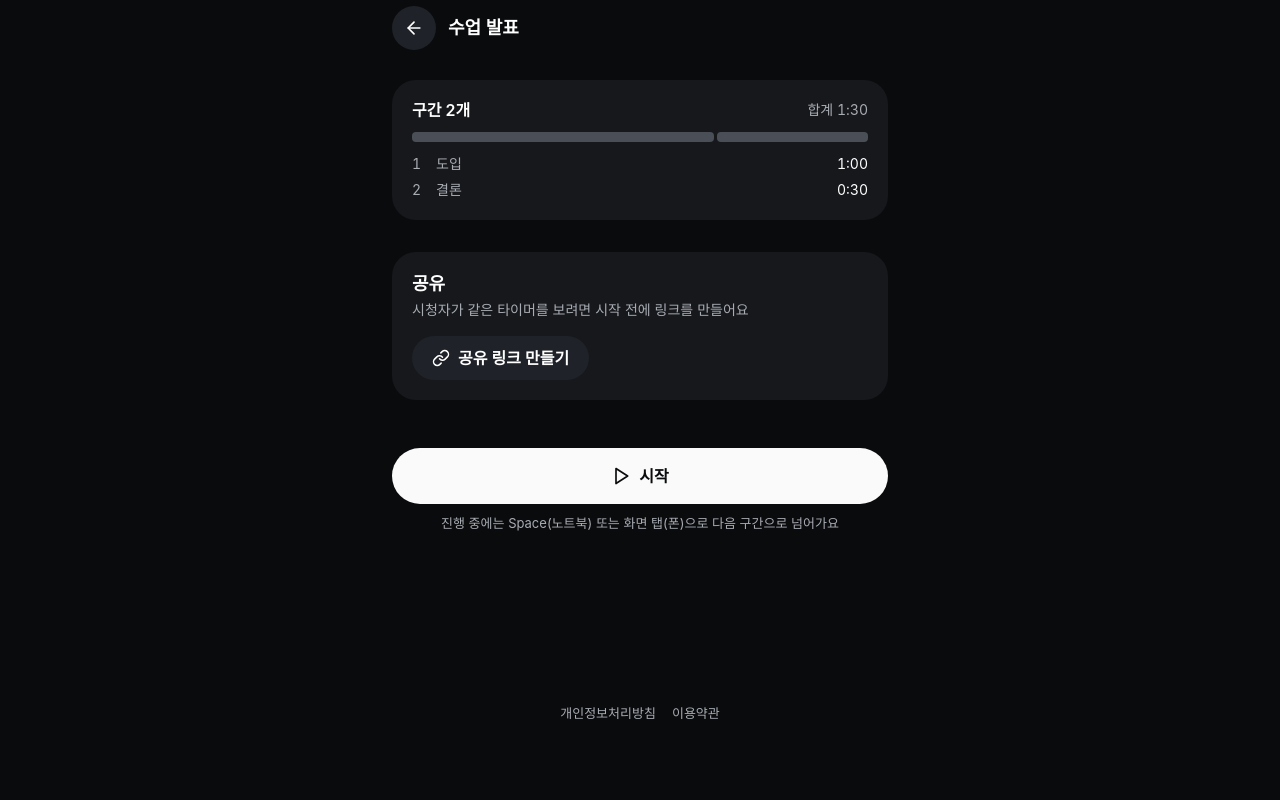
it: RunScreen › expires the finish hint after 3 seconds without ending and starts a fresh confirmation
Click the button "시작" at (640,476), box x1=392 y1=448 x2=888 y2=504
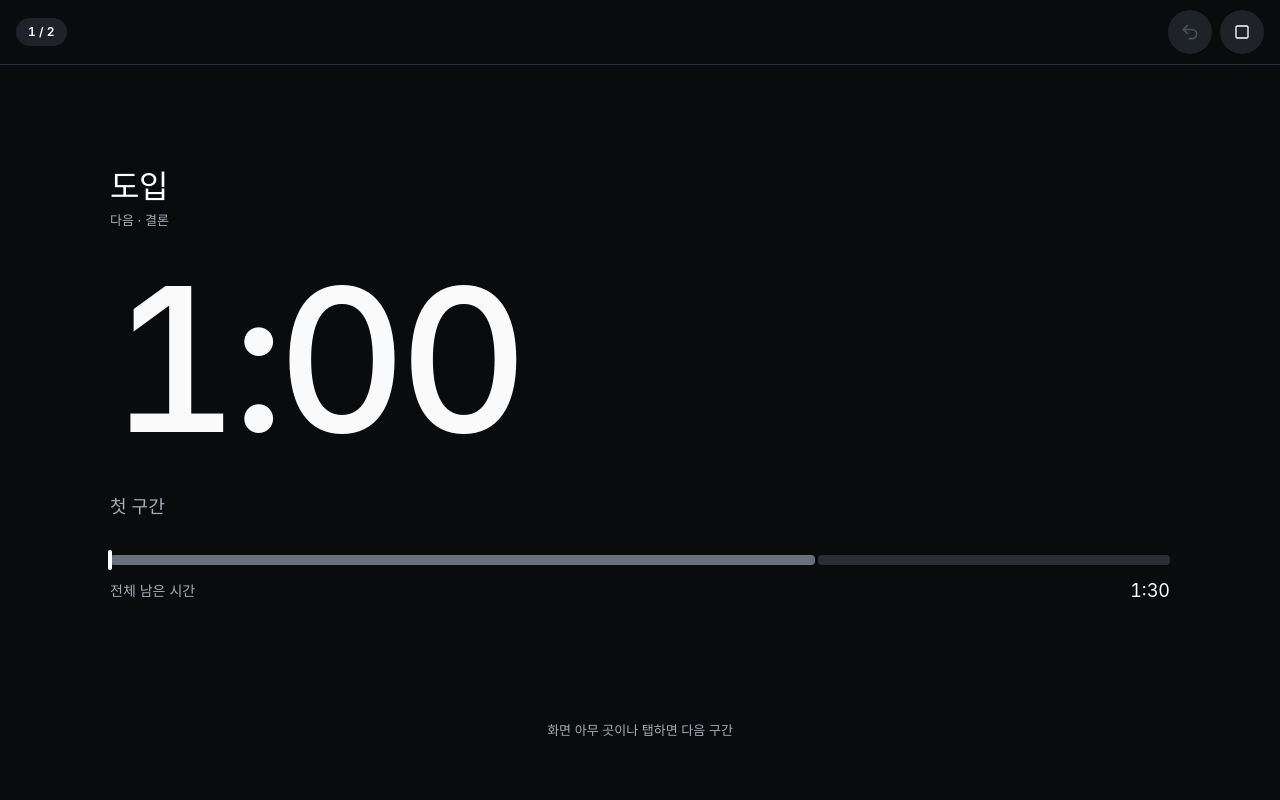
Press Space
Wait 500 ms
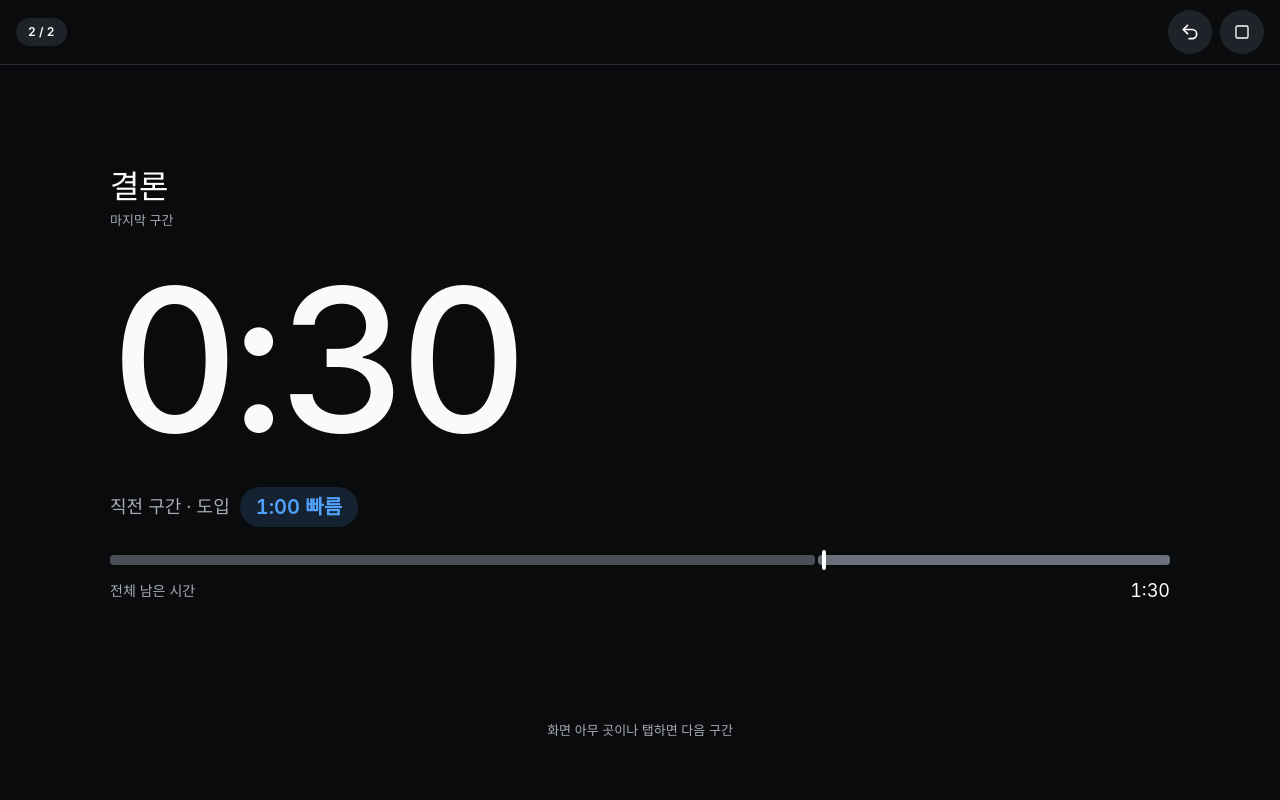
Press Space
Wait 3000 ms
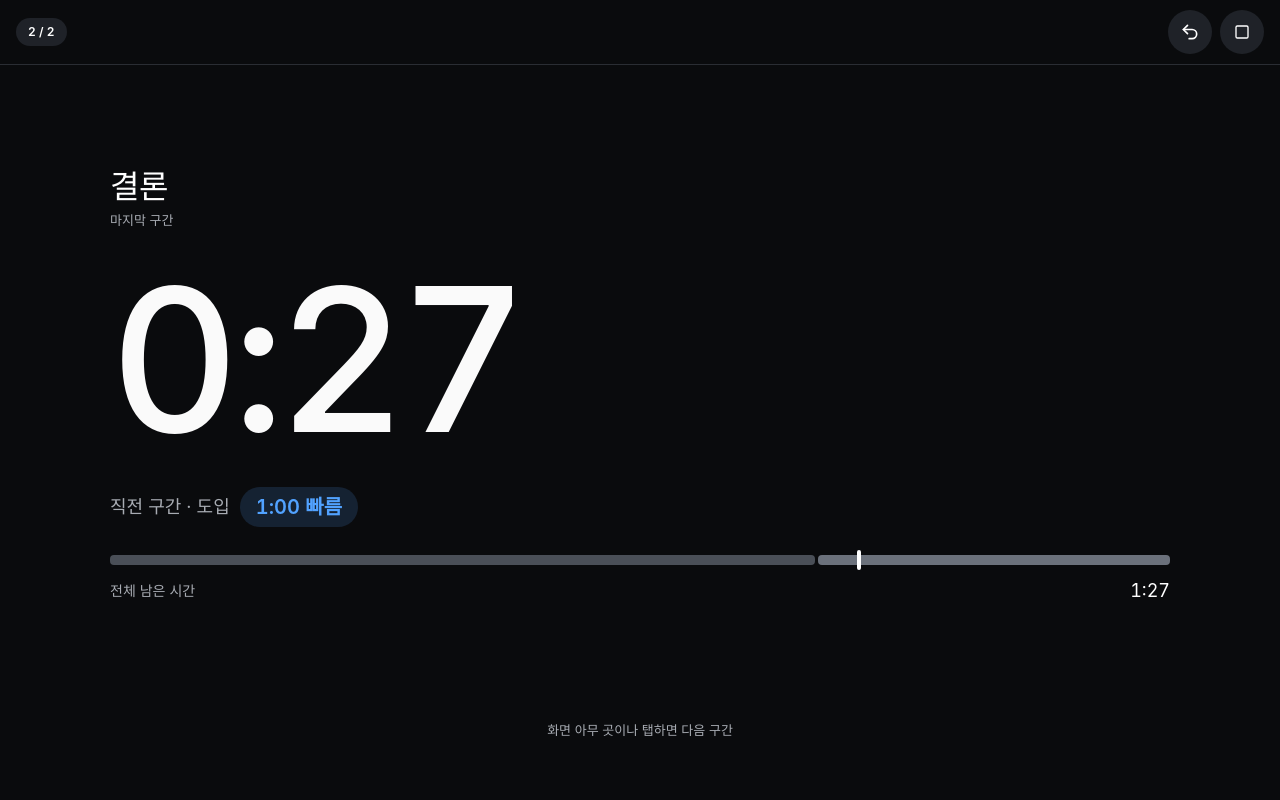
Expected: the text "한 번 더 누르면 종료" is not shown
Press Space
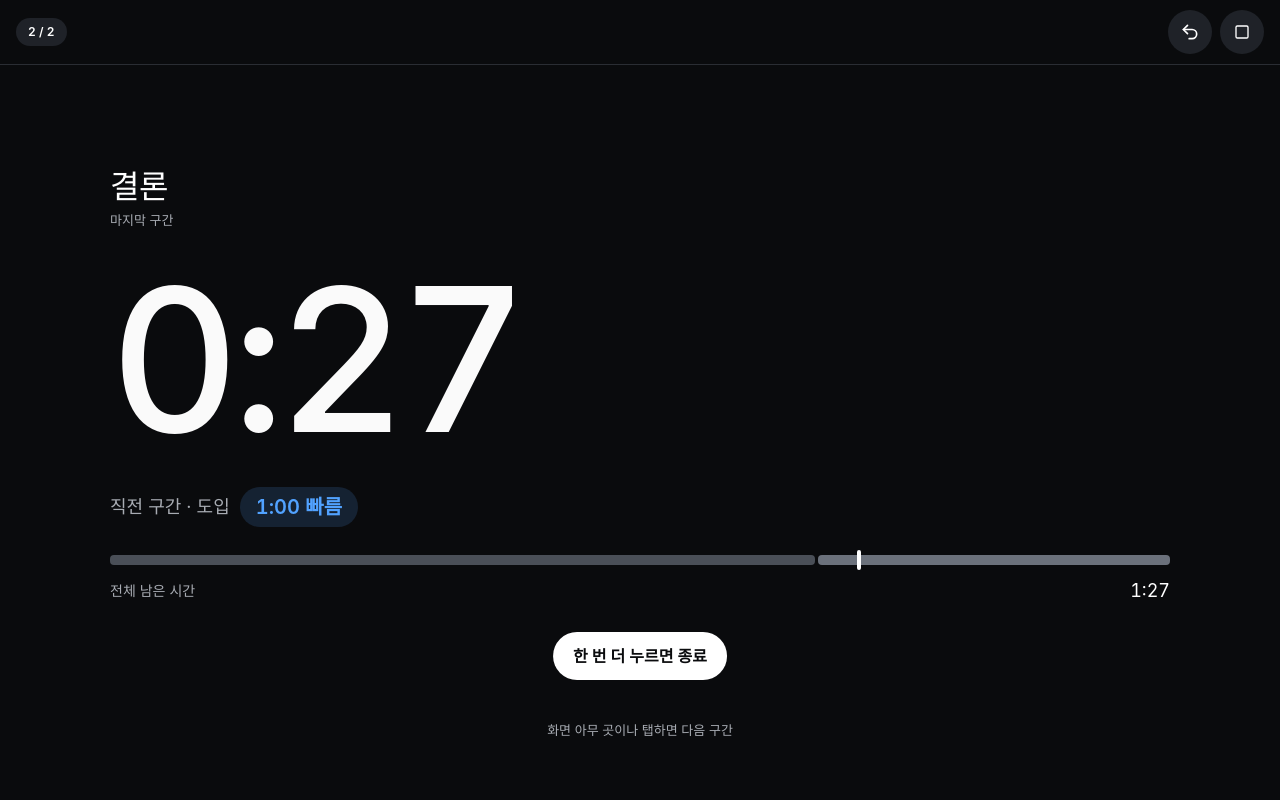
Result: the text "한 번 더 누르면 종료" is shown at x1=553 y1=632 x2=727 y2=680
